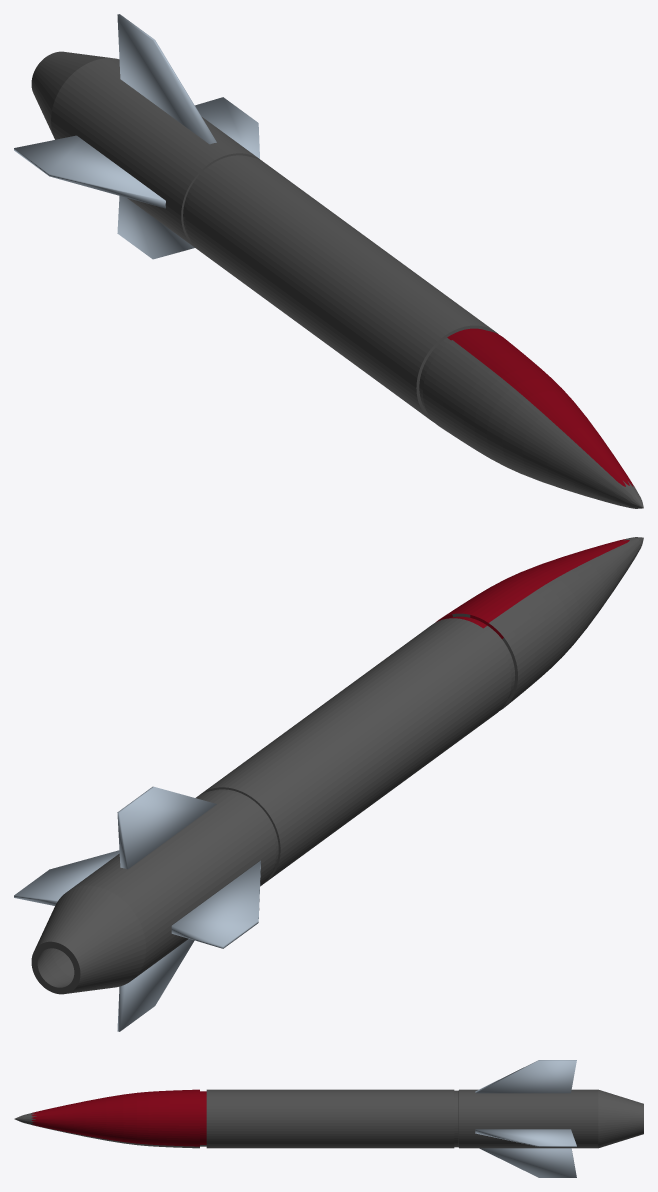
File: missile.fbx
3 renders of one model, top to bottom at view 1: azimuth 30°, elevation 25°; view 2: azimuth 150°, elevation 25°; view 3: azimuth 270°, elevation 25°, orthographic. The views are drawn at different scales.
Parts seen in each view (by area): view 1: Body, Fender Top, Fender Right, Fender Bottom, Fender Left; view 2: Body, Fender Top, Fender Right, Fender Bottom, Fender Left; view 3: Body, Fender Top, Fender Bottom, Fender Left.
Boxes of the visible parts, x1,y1,x2,y2 form: Body: (31,51,643,508); Fender Top: (117,14,216,144); Fender Right: (14,135,165,208); Fender Bottom: (117,196,194,259); Fender Left: (195,97,259,158); Body: (31,537,643,994); Fender Top: (117,786,216,869); Fender Right: (171,860,260,948); Fender Bottom: (117,939,194,1031); Fender Left: (14,850,119,905); Body: (14,1089,643,1148); Fender Top: (475,1060,576,1093); Fender Bottom: (479,1148,576,1177); Fender Left: (475,1129,576,1146).
Bounding box in the file's own units: 94.3 × 94.3 × 459.
